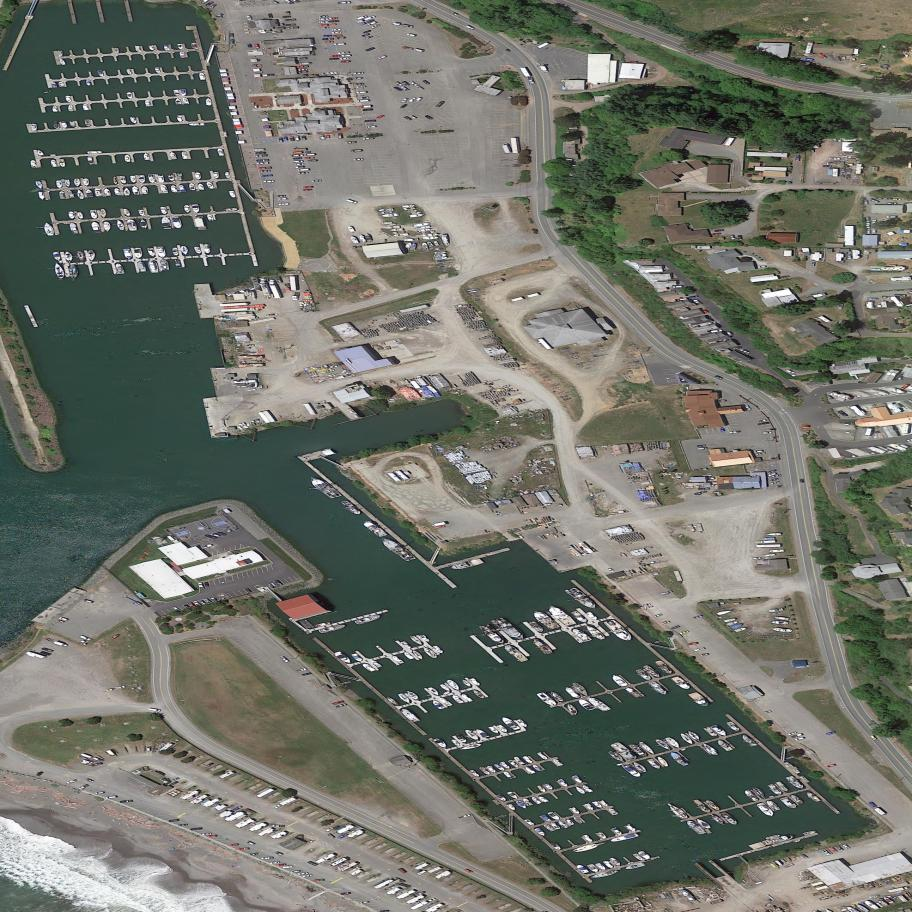large-vehicle: (409, 896, 437, 912), (267, 277, 283, 301), (273, 796, 298, 811), (872, 805, 887, 818), (519, 65, 532, 80), (887, 885, 910, 893), (501, 141, 513, 156), (105, 747, 118, 760), (52, 640, 69, 648), (899, 382, 911, 392), (430, 521, 447, 528), (362, 15, 376, 22)
ship: (305, 470, 344, 505), (377, 533, 418, 566), (489, 613, 528, 647), (563, 583, 601, 614), (602, 615, 636, 646), (544, 600, 578, 630), (477, 619, 510, 649), (748, 832, 797, 851), (529, 605, 561, 634), (608, 738, 640, 765), (685, 686, 714, 713), (501, 640, 530, 666), (361, 516, 390, 542), (664, 798, 691, 823), (530, 635, 555, 659), (583, 621, 608, 644), (585, 694, 612, 715), (683, 817, 708, 839), (339, 497, 364, 519), (535, 688, 560, 710), (449, 557, 485, 572), (569, 678, 593, 700), (398, 704, 422, 726), (646, 678, 671, 699), (669, 672, 694, 693), (754, 799, 777, 821), (569, 625, 593, 646), (667, 749, 691, 770), (653, 657, 676, 678), (784, 772, 807, 793), (621, 761, 645, 781), (690, 796, 714, 816), (498, 713, 522, 733), (718, 809, 740, 829), (627, 741, 650, 760), (779, 793, 800, 813), (641, 662, 663, 681), (609, 671, 630, 690), (569, 607, 590, 626), (354, 613, 384, 626), (607, 748, 628, 766), (663, 734, 684, 752), (333, 649, 354, 667), (609, 832, 640, 844), (678, 886, 697, 905), (576, 696, 596, 714), (317, 623, 347, 635), (653, 736, 674, 753), (572, 842, 601, 854), (739, 732, 758, 750), (527, 618, 546, 636), (463, 726, 482, 744), (421, 644, 440, 662), (634, 666, 654, 683), (637, 739, 657, 756), (708, 811, 728, 828), (710, 722, 730, 739), (563, 683, 581, 701), (743, 787, 761, 805), (701, 741, 720, 758), (645, 755, 664, 772), (685, 728, 704, 745), (765, 781, 784, 798), (590, 869, 619, 880), (716, 737, 734, 754), (678, 731, 696, 748), (548, 688, 566, 705), (564, 701, 581, 718), (624, 685, 642, 701), (631, 759, 649, 775), (695, 816, 713, 832), (704, 797, 722, 813), (804, 789, 822, 805), (750, 784, 768, 800), (445, 677, 463, 693), (396, 691, 414, 707), (862, 897, 881, 912), (725, 719, 742, 735), (433, 735, 450, 751), (404, 688, 422, 703), (774, 779, 791, 794), (470, 687, 487, 702), (42, 220, 56, 238), (194, 214, 208, 232), (655, 754, 671, 769), (789, 792, 805, 807), (765, 798, 781, 813), (459, 742, 483, 752), (430, 697, 446, 712), (386, 694, 402, 709), (409, 633, 425, 648), (454, 731, 470, 746), (607, 855, 624, 869), (437, 695, 454, 709), (475, 726, 490, 741), (361, 660, 376, 675), (703, 725, 719, 739), (637, 848, 653, 862), (147, 258, 160, 275), (53, 262, 65, 280), (68, 264, 80, 282), (586, 861, 601, 875), (575, 862, 590, 876), (451, 692, 465, 707), (514, 798, 529, 812), (585, 609, 599, 623), (533, 825, 547, 839), (411, 648, 425, 662), (556, 776, 570, 790), (427, 685, 442, 698), (515, 717, 530, 730), (350, 651, 365, 664), (90, 219, 102, 235), (546, 810, 562, 822), (611, 825, 625, 838), (512, 754, 526, 767), (391, 653, 405, 666), (506, 789, 520, 802), (126, 218, 138, 233), (625, 862, 645, 871), (875, 897, 890, 909), (881, 895, 896, 907), (172, 215, 183, 231), (550, 840, 563, 853), (582, 832, 595, 845), (574, 784, 587, 797), (571, 773, 584, 786), (431, 644, 445, 656), (439, 682, 453, 694), (399, 639, 413, 651), (495, 792, 509, 804), (487, 724, 501, 736), (493, 761, 507, 773), (478, 765, 492, 777), (496, 723, 510, 735), (460, 692, 474, 704), (115, 218, 126, 233), (68, 221, 79, 236), (161, 215, 172, 230), (540, 812, 553, 824), (591, 799, 604, 811), (549, 820, 562, 832), (569, 805, 582, 817), (583, 801, 596, 813), (625, 822, 638, 834), (469, 676, 482, 688), (507, 758, 520, 770), (536, 750, 549, 762), (499, 760, 512, 772), (402, 650, 415, 662), (369, 658, 382, 670), (581, 783, 594, 795), (530, 794, 543, 806), (156, 245, 167, 259), (523, 817, 537, 828), (521, 754, 535, 765), (771, 626, 793, 633), (728, 622, 745, 631), (603, 859, 615, 871), (557, 818, 569, 830), (450, 737, 462, 749), (502, 769, 514, 781), (521, 796, 533, 808), (632, 852, 645, 863), (595, 861, 608, 872), (460, 678, 473, 689), (551, 757, 564, 768), (419, 633, 432, 644), (542, 823, 556, 833), (732, 626, 749, 634), (572, 815, 584, 826), (607, 806, 619, 817), (597, 830, 609, 841), (531, 762, 543, 773), (486, 764, 498, 775), (469, 768, 481, 779), (537, 783, 548, 795), (506, 802, 518, 813), (543, 781, 555, 792), (524, 765, 536, 776), (537, 794, 549, 805), (76, 250, 86, 263), (64, 250, 74, 263), (52, 250, 62, 263), (137, 260, 147, 273), (115, 262, 125, 275), (123, 247, 133, 260), (86, 154, 96, 167), (314, 621, 332, 628), (715, 609, 733, 616), (122, 207, 132, 219), (102, 221, 112, 233), (180, 244, 190, 256), (350, 234, 360, 246), (173, 258, 183, 270), (65, 188, 75, 200), (764, 834, 781, 841), (134, 247, 143, 260), (160, 259, 169, 272), (725, 620, 741, 627), (205, 180, 215, 191), (87, 250, 96, 262), (147, 247, 156, 259), (413, 222, 431, 228), (358, 233, 367, 245), (76, 189, 85, 201), (768, 607, 785, 613), (380, 213, 400, 218), (346, 224, 356, 234), (565, 817, 575, 827), (769, 620, 789, 625), (76, 210, 85, 221), (35, 180, 44, 191), (193, 245, 202, 256), (206, 212, 215, 223), (364, 232, 373, 243), (404, 240, 413, 251), (216, 147, 225, 158), (169, 150, 178, 161), (52, 120, 61, 131), (228, 189, 237, 200), (94, 187, 103, 198), (113, 186, 122, 197), (131, 185, 140, 196), (130, 115, 139, 126), (99, 207, 107, 219), (160, 183, 168, 195), (409, 213, 427, 218), (802, 830, 817, 836), (36, 148, 45, 158), (176, 114, 185, 124), (162, 43, 171, 53), (722, 617, 737, 623), (90, 209, 98, 220), (172, 246, 180, 257), (203, 243, 211, 254), (148, 173, 156, 184), (111, 175, 119, 186), (415, 225, 432, 230), (774, 616, 791, 621), (100, 688, 114, 694), (199, 543, 213, 549), (160, 206, 168, 216), (139, 219, 147, 229), (38, 191, 46, 201), (393, 233, 409, 238), (84, 118, 92, 128), (194, 171, 202, 181), (181, 150, 189, 160), (50, 158, 58, 168), (29, 159, 37, 169), (86, 188, 94, 198), (119, 175, 127, 185), (123, 187, 131, 197), (69, 119, 77, 129), (65, 94, 73, 104), (182, 96, 190, 106), (97, 69, 105, 79), (433, 256, 449, 261), (385, 222, 398, 228), (59, 158, 66, 169), (402, 204, 417, 209), (418, 228, 433, 233), (761, 553, 776, 558), (192, 204, 200, 213), (427, 240, 435, 249), (422, 236, 440, 240), (82, 103, 90, 112), (126, 91, 134, 100), (225, 207, 239, 212), (179, 184, 186, 194), (104, 187, 111, 197), (179, 50, 186, 60), (59, 57, 66, 67), (769, 549, 786, 553), (765, 532, 782, 536), (378, 208, 394, 212), (423, 233, 439, 237), (403, 238, 419, 242), (224, 171, 232, 179), (190, 42, 198, 50), (760, 537, 776, 541), (184, 205, 191, 214), (64, 179, 71, 188), (422, 242, 429, 251), (56, 180, 63, 189), (74, 178, 81, 187), (83, 178, 90, 187), (143, 152, 150, 161), (189, 182, 196, 191), (130, 175, 137, 184), (177, 173, 184, 182), (171, 184, 178, 193), (86, 78, 93, 87), (180, 88, 187, 97), (144, 99, 151, 108), (199, 72, 206, 81), (155, 66, 162, 75), (138, 209, 145, 217), (59, 191, 66, 199), (434, 254, 448, 258), (386, 225, 400, 229), (392, 231, 406, 235), (142, 186, 149, 194), (168, 174, 175, 182), (68, 104, 75, 112), (205, 98, 212, 106), (173, 89, 180, 97), (126, 68, 133, 76), (135, 45, 142, 53), (149, 44, 156, 52), (31, 123, 38, 131), (49, 81, 57, 88), (886, 894, 897, 899), (69, 211, 75, 220), (139, 175, 145, 184), (410, 211, 423, 215), (403, 207, 416, 211), (390, 228, 403, 232), (434, 251, 447, 255), (381, 221, 394, 225), (189, 123, 206, 126), (175, 98, 182, 105), (411, 243, 417, 251), (198, 183, 204, 191), (837, 303, 845, 309), (88, 151, 103, 154), (422, 231, 436, 234), (214, 172, 220, 179), (125, 155, 131, 162), (62, 121, 68, 128), (159, 176, 165, 183), (52, 105, 58, 112), (177, 44, 184, 50), (57, 51, 64, 57), (113, 48, 120, 54), (58, 82, 65, 87), (43, 91, 52, 94)
small-vehicle: (816, 51, 830, 61), (392, 875, 407, 884), (539, 63, 550, 75), (244, 807, 258, 816), (821, 847, 832, 858), (279, 654, 290, 665), (867, 799, 879, 809), (895, 372, 907, 382), (456, 813, 472, 820), (65, 778, 79, 786), (841, 842, 852, 852), (834, 843, 845, 853), (407, 95, 418, 105), (307, 859, 319, 868), (232, 804, 244, 813), (837, 409, 849, 418), (464, 23, 476, 32), (374, 113, 386, 122), (79, 635, 92, 643), (78, 783, 91, 791), (868, 197, 881, 205), (828, 844, 838, 854), (701, 306, 711, 316), (273, 578, 283, 588), (435, 99, 445, 109), (414, 95, 424, 105), (400, 95, 410, 105), (408, 79, 419, 88), (335, 702, 349, 709), (694, 490, 708, 497), (204, 533, 218, 540), (337, 832, 349, 840), (273, 850, 285, 858), (376, 54, 389, 61), (345, 198, 358, 205), (326, 831, 336, 840), (325, 825, 335, 834), (398, 866, 408, 875), (147, 707, 162, 713), (187, 601, 197, 610), (192, 599, 202, 608), (527, 76, 536, 86), (692, 647, 707, 653), (399, 102, 409, 111), (464, 867, 475, 875), (245, 839, 256, 847), (692, 298, 703, 306), (204, 0, 215, 8), (213, 12, 224, 20), (423, 113, 434, 121), (393, 79, 404, 87), (399, 84, 410, 92), (415, 84, 426, 92), (400, 79, 411, 87), (41, 647, 55, 653), (331, 700, 345, 706), (709, 328, 723, 334), (659, 590, 673, 596), (678, 629, 690, 636), (364, 46, 376, 53), (869, 733, 878, 742), (203, 597, 212, 606), (198, 598, 207, 607), (244, 586, 253, 595), (171, 605, 181, 613), (118, 799, 134, 804), (398, 882, 411, 888), (295, 667, 308, 673), (82, 598, 95, 604), (81, 759, 94, 765), (84, 777, 95, 784), (767, 468, 778, 475), (739, 348, 750, 355), (785, 368, 796, 375), (714, 374, 725, 381), (367, 20, 378, 27), (104, 795, 119, 800), (400, 23, 415, 28), (826, 394, 835, 402), (826, 763, 838, 769), (801, 853, 810, 861), (301, 671, 313, 677), (40, 650, 52, 656), (111, 633, 120, 641), (35, 770, 44, 778), (825, 730, 837, 736), (794, 736, 806, 742), (607, 566, 616, 574), (744, 403, 752, 412), (209, 2, 218, 10), (421, 78, 430, 86), (356, 15, 368, 21), (369, 23, 381, 29), (450, 10, 460, 17), (401, 46, 415, 51), (403, 115, 413, 122), (408, 114, 418, 121), (792, 733, 803, 739), (692, 614, 703, 620), (769, 477, 780, 483), (770, 480, 781, 486), (361, 32, 372, 38), (687, 294, 700, 299), (757, 421, 770, 426), (752, 449, 765, 454), (204, 762, 213, 769), (197, 581, 204, 590), (169, 780, 179, 786), (171, 776, 181, 782), (236, 847, 251, 851), (114, 685, 126, 690), (189, 827, 204, 831), (92, 762, 104, 767), (676, 297, 688, 302), (706, 321, 718, 326), (788, 731, 798, 737), (755, 451, 767, 456), (393, 86, 403, 92), (333, 42, 348, 46), (254, 154, 269, 158), (272, 824, 286, 828), (337, 132, 344, 140), (297, 168, 311, 172), (203, 581, 210, 589), (302, 874, 313, 879), (58, 616, 69, 621), (721, 337, 732, 342), (767, 472, 778, 477), (660, 620, 671, 625), (363, 35, 374, 40), (216, 531, 227, 536), (274, 863, 287, 867), (268, 861, 281, 865), (93, 791, 106, 795), (686, 642, 699, 646), (262, 73, 275, 77), (287, 26, 300, 30), (296, 65, 309, 69), (284, 18, 297, 22), (350, 149, 363, 153), (337, 51, 350, 55), (405, 33, 418, 37), (364, 119, 377, 123), (357, 99, 370, 103), (653, 613, 663, 618), (362, 29, 372, 34), (212, 533, 222, 538), (246, 14, 253, 21), (296, 872, 308, 876), (247, 852, 259, 856), (434, 525, 446, 529), (200, 832, 212, 836), (168, 819, 180, 823), (802, 57, 814, 61), (729, 430, 741, 434), (254, 42, 260, 50), (268, 12, 274, 20), (262, 174, 274, 178), (257, 167, 273, 170), (319, 133, 325, 141), (360, 105, 372, 109), (671, 625, 680, 630), (337, 1, 352, 4), (366, 19, 375, 24), (711, 232, 722, 236), (641, 603, 652, 607), (771, 474, 782, 478), (696, 444, 707, 448), (363, 108, 374, 112), (329, 57, 340, 61), (335, 36, 346, 40), (260, 169, 271, 173), (303, 185, 314, 189), (260, 857, 274, 860), (795, 155, 801, 162), (864, 217, 871, 223), (865, 222, 871, 229), (726, 331, 733, 337), (294, 135, 300, 142), (289, 136, 295, 143), (278, 137, 284, 144), (229, 843, 239, 847), (341, 891, 351, 895), (207, 834, 217, 838), (57, 619, 65, 624), (699, 653, 709, 657), (277, 194, 287, 198), (360, 96, 370, 100), (313, 879, 326, 882), (894, 294, 907, 297), (321, 38, 334, 41), (299, 62, 312, 65), (284, 23, 297, 26), (257, 162, 270, 165), (257, 159, 270, 162), (344, 141, 357, 144), (297, 172, 310, 175), (282, 866, 294, 869), (359, 901, 371, 904), (871, 219, 877, 225), (886, 216, 898, 219), (819, 67, 831, 70), (829, 157, 841, 160), (865, 229, 871, 235), (696, 447, 708, 450), (295, 166, 307, 169), (255, 152, 267, 155), (329, 20, 341, 23), (263, 180, 275, 183), (363, 137, 375, 140), (292, 154, 304, 157), (304, 157, 316, 160), (301, 135, 307, 141), (283, 136, 289, 142), (355, 85, 367, 88), (146, 745, 151, 752), (799, 478, 806, 483), (719, 427, 726, 432), (246, 43, 253, 48), (290, 870, 301, 873), (178, 824, 189, 827), (714, 229, 725, 232), (880, 296, 891, 299), (673, 285, 684, 288), (332, 31, 343, 34), (331, 28, 342, 31), (320, 26, 331, 29), (318, 21, 329, 24), (329, 17, 340, 20), (297, 68, 308, 71), (311, 179, 322, 182), (278, 197, 289, 200), (278, 203, 289, 206), (294, 163, 305, 166), (293, 160, 304, 163), (354, 72, 365, 75), (341, 60, 352, 63), (339, 57, 350, 60), (367, 125, 378, 128), (356, 91, 367, 94), (848, 254, 853, 260), (738, 235, 743, 241), (730, 234, 735, 240), (781, 275, 791, 278), (863, 200, 869, 205), (822, 165, 832, 168), (892, 198, 902, 201), (887, 202, 897, 205), (752, 557, 762, 560), (762, 431, 772, 434), (293, 157, 303, 160), (333, 34, 343, 37), (318, 15, 328, 18), (229, 33, 235, 38), (354, 158, 364, 161), (325, 134, 331, 139), (293, 151, 303, 154), (342, 54, 352, 57), (866, 298, 879, 300), (872, 228, 877, 233), (230, 39, 235, 44), (810, 262, 816, 266), (716, 400, 727, 402), (318, 18, 329, 20), (319, 24, 330, 26), (298, 71, 309, 73), (303, 189, 314, 191), (307, 160, 318, 162), (330, 55, 341, 57), (355, 83, 366, 85), (757, 266, 767, 268), (324, 41, 334, 43), (323, 35, 333, 37), (283, 16, 292, 18), (355, 77, 363, 79)
